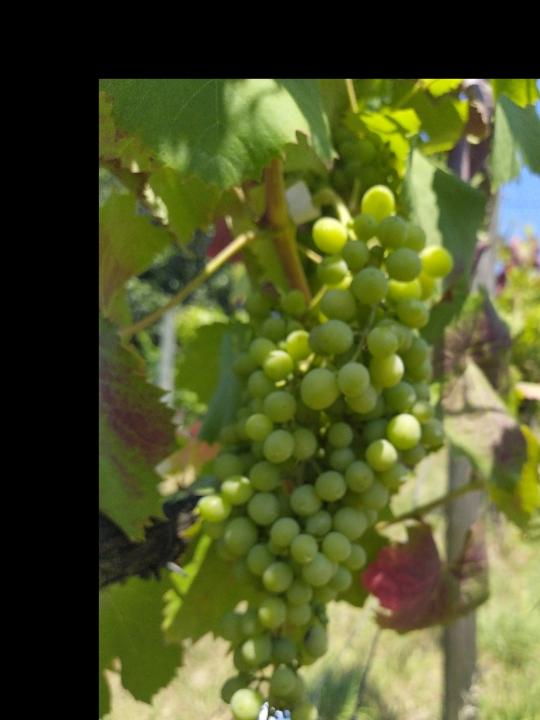grape: (195, 186, 454, 720)
